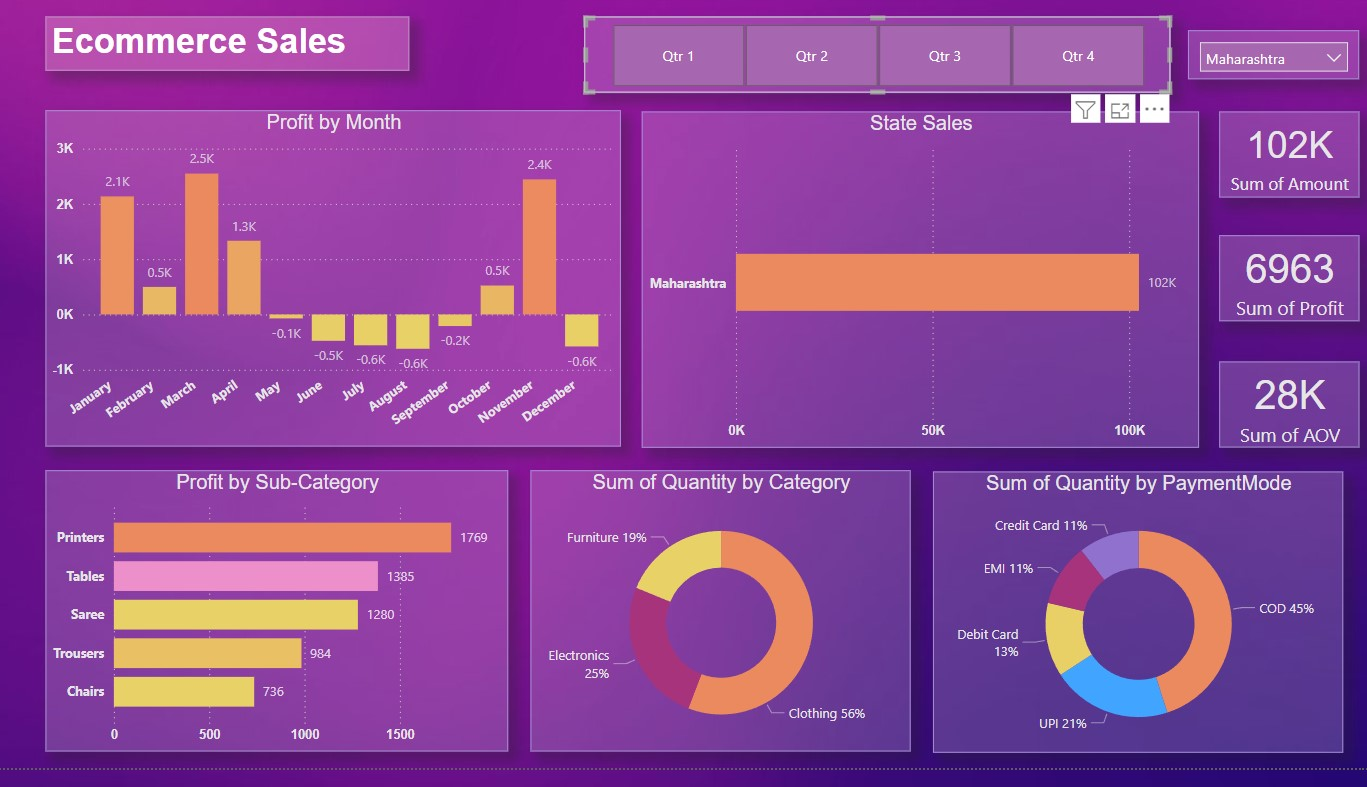

What the dashboard file says about the page in this screenshot:
{"tool":"powerbi","page":{"name":"Page 1","canvas":[1280,720],"ordinal":0},"visuals":[{"type":"textbox","box":[44.2,20.9,338.4,50],"z":0},{"type":"columnChart","title":"Profit by Month","fields":{"Y":["Sum(Details.Profit)"],"Category":["Orders.Order Date.Variation.Date Hierarchy.Month"]},"box":[44.2,108.1,534.9,312.8],"z":1000},{"type":"barChart","title":"Profit by Sub-Category","fields":{"Y":["Sum(Details.Profit)"],"Category":["Details.Sub-Category"]},"box":[44.2,443,430.2,261.6],"z":2000},{"type":"donutChart","fields":{"Category":["Details.Category"],"Y":["Sum(Details.Quantity)"]},"box":[495.4,443,353.5,261.6],"z":3000},{"type":"donutChart","fields":{"Category":["Details.PaymentMode"],"Y":["Sum(Details.Quantity)"]},"box":[869.8,444.2,381.4,261.6],"z":4000},{"type":"card","fields":{"Values":["Sum(Details.Amount)"]},"box":[1136,109.3,130.2,80.2],"z":5000},{"type":"card","fields":{"Values":["Sum(Details.Profit)"]},"box":[1136,224.4,130.2,80.2],"z":6000},{"type":"card","fields":{"Values":["Sum(Details.AOV)"]},"box":[1136,341.9,130.2,80.2],"z":7000},{"type":"barChart","title":"State Sales","fields":{"Category":["Orders.State"],"Y":["Sum(Details.Amount)"]},"box":[598.8,109.3,518.6,312.8],"z":8000},{"type":"slicer","fields":{"Values":["Orders.Order Date.Variation.Date Hierarchy.Quarter"]},"box":[545.4,20.9,545.4,70.9],"z":9000},{"type":"slicer","fields":{"Values":["Orders.State"]},"box":[1107,33.7,159.3,45.3],"z":10000}]}

Visuals, with their boxes in screenshot pixels (x1, y1, x2, y2), scaled from the page's 1280x720 canvas onto the 1367x787 screenshot:
textbox: bbox(47, 23, 409, 77)
"Profit by Month" columnChart: bbox(47, 118, 618, 460)
"Profit by Sub-Category" barChart: bbox(47, 484, 507, 770)
donutChart - Details.Category x Sum(Details.Quantity): bbox(529, 484, 907, 770)
donutChart - Details.PaymentMode x Sum(Details.Quantity): bbox(929, 486, 1336, 771)
card - Sum(Details.Amount): bbox(1213, 119, 1352, 207)
card - Sum(Details.Profit): bbox(1213, 245, 1352, 333)
card - Sum(Details.AOV): bbox(1213, 374, 1352, 461)
"State Sales" barChart: bbox(639, 119, 1193, 461)
slicer - Orders.Order Date.Variation.Date Hierarchy.Quarter: bbox(582, 23, 1165, 100)
slicer - Orders.State: bbox(1182, 37, 1352, 86)
